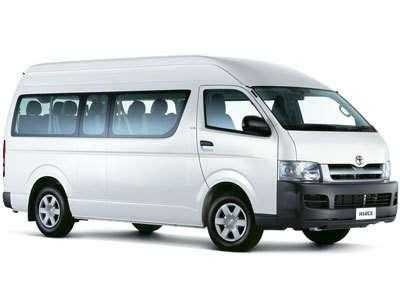van: (1, 54, 400, 252)
